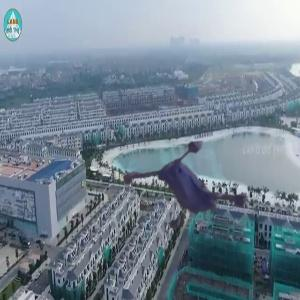drone: (137, 116, 275, 254)
